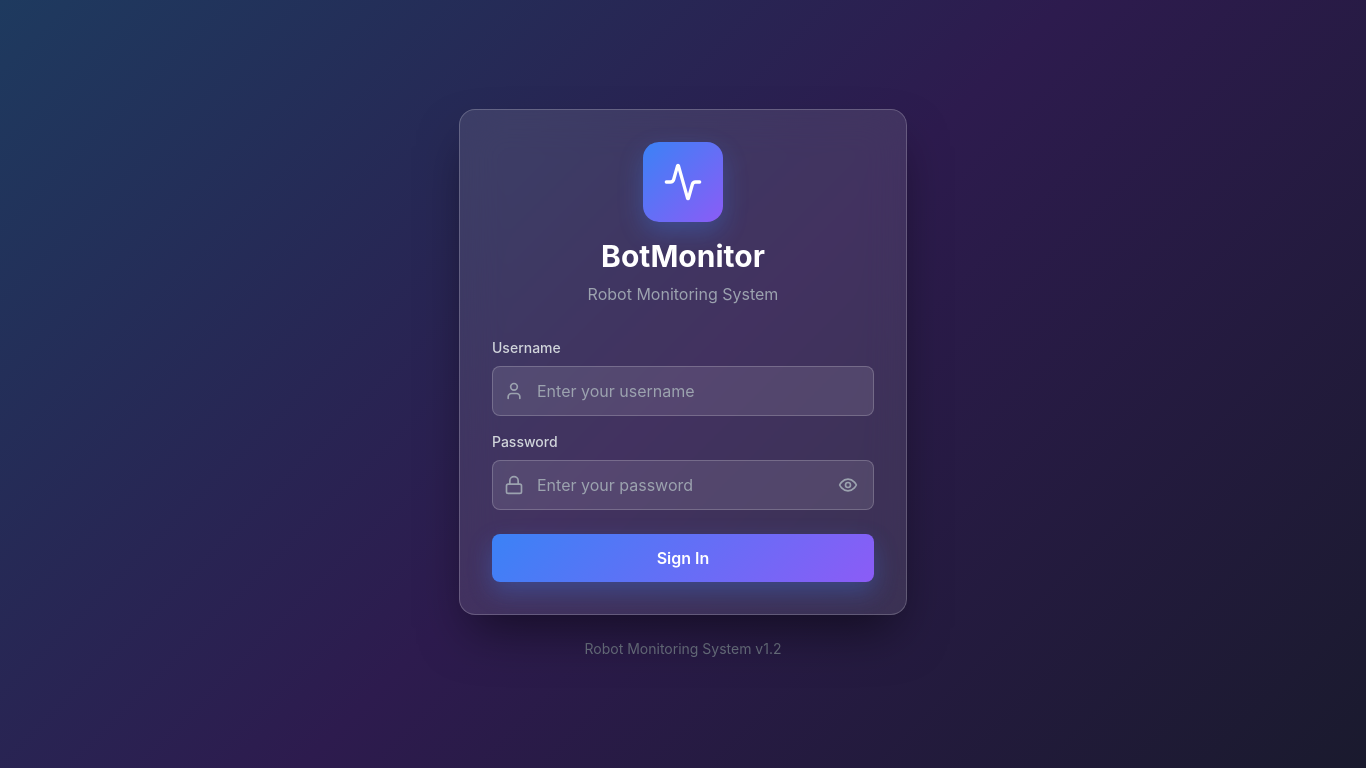
Test: Login Page › shows error on login failure
Type "wronguser" into the field with placeholder "Enter your username".
click(683, 391); type("wronguser")  # box [492,366,874,416]
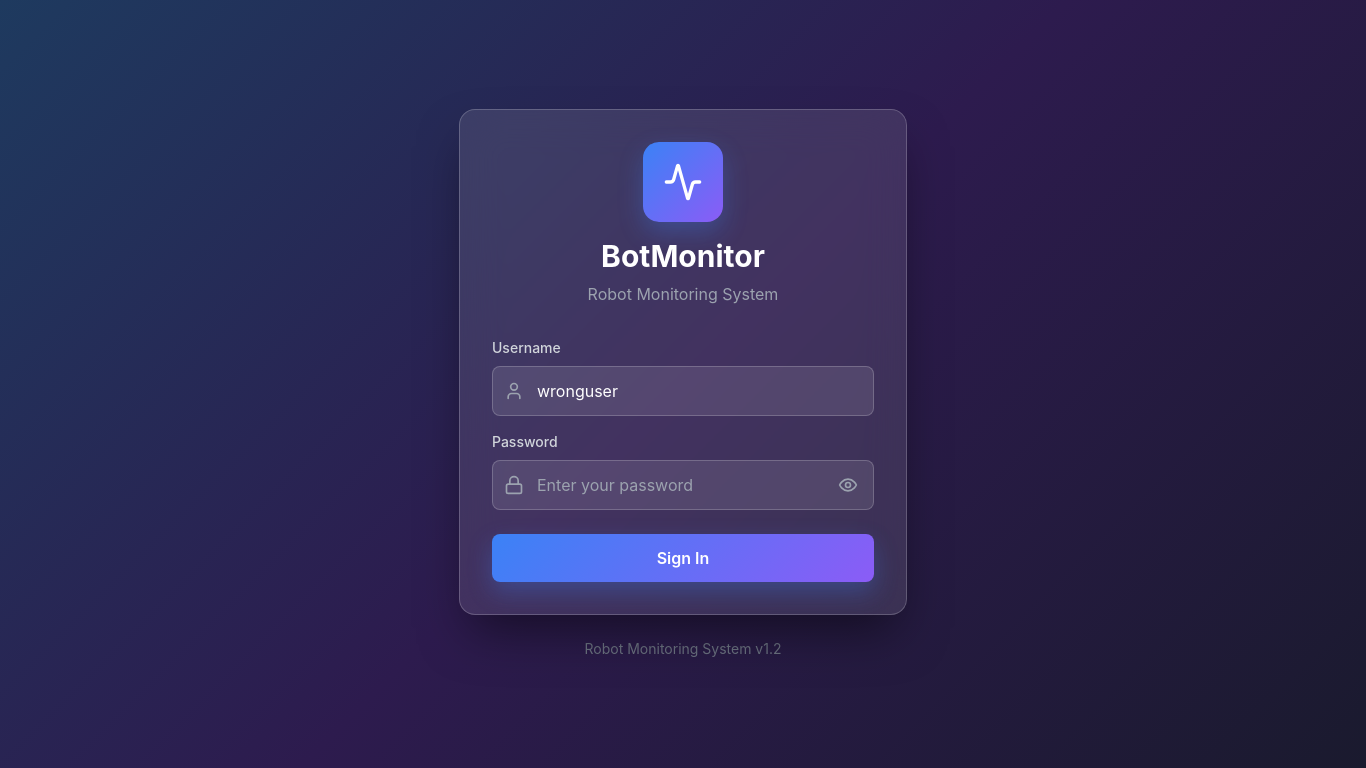
Type "wrongpassword" into the password field with placeholder "Enter your password".
click(683, 485); type("wrongpassword")  # box [492,460,874,510]
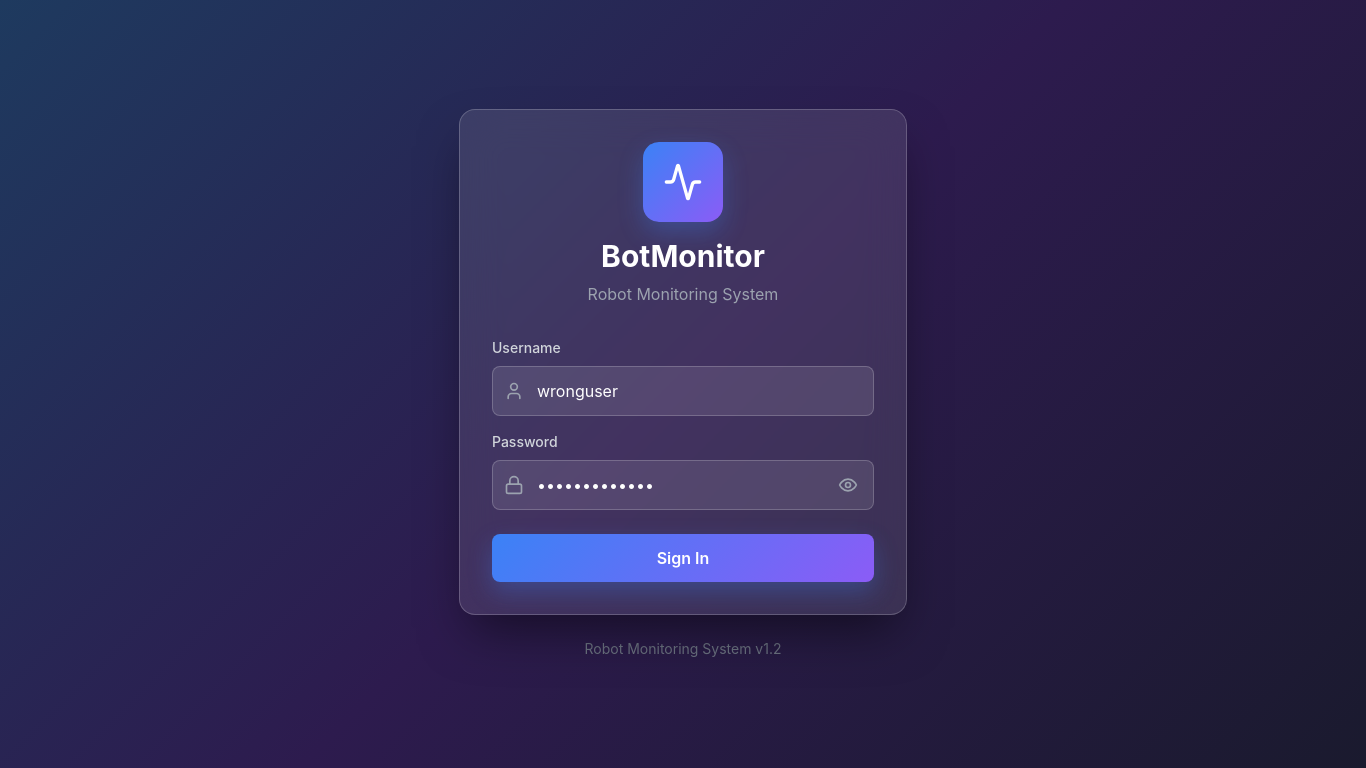
Click the button "Sign In".
click(683, 558)  # box [492,534,874,582]
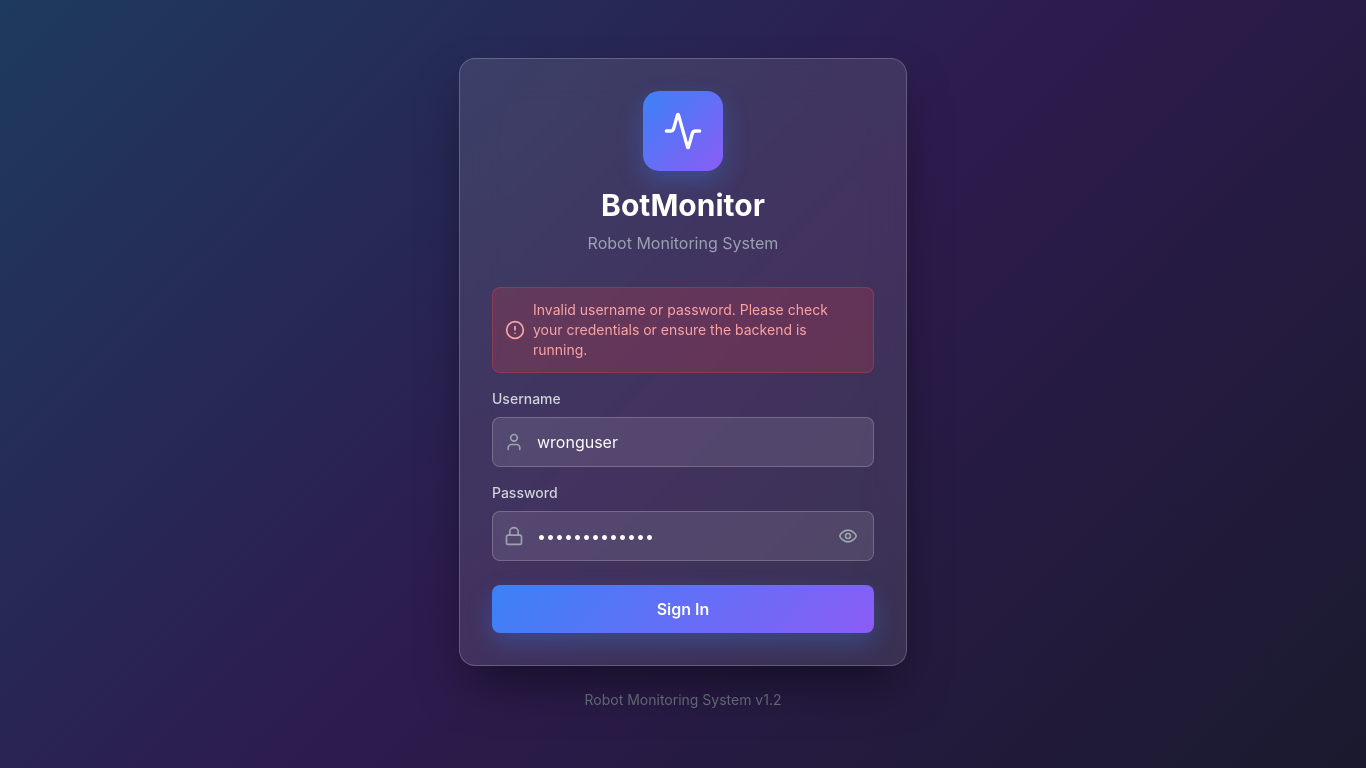
Check: the text "Invalid username or password" is shown, box [533,301,828,358]
